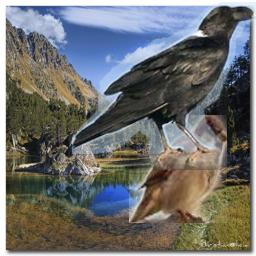Crow: (72, 2, 256, 170)
Sparrow: (129, 115, 227, 223)
